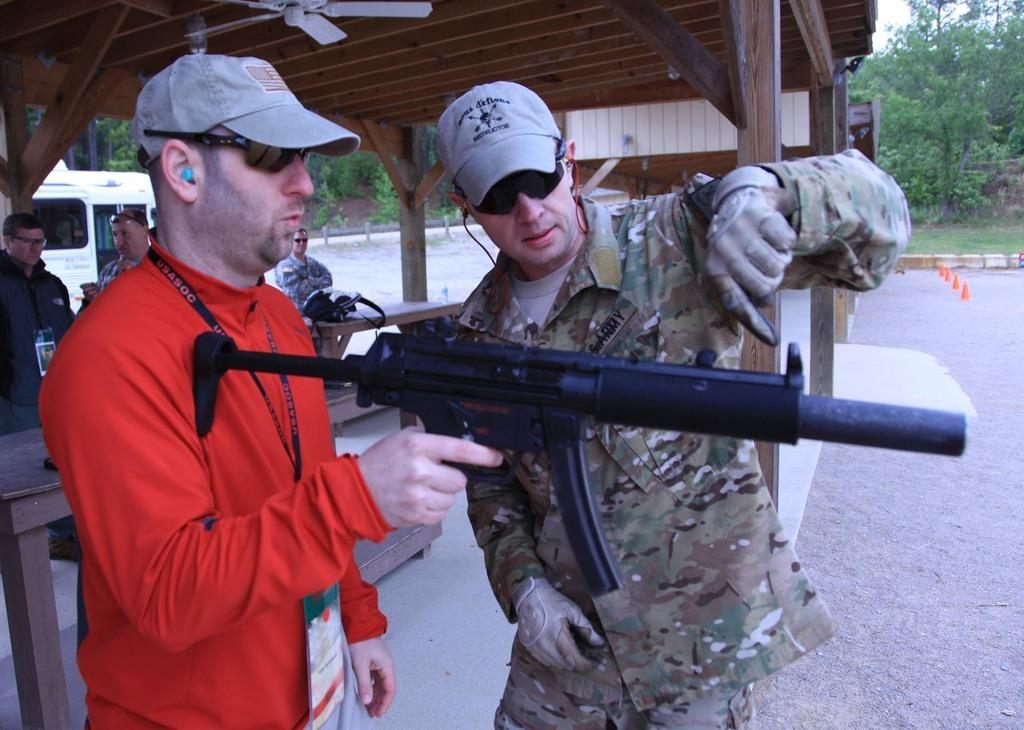Rifle: (173, 247, 925, 637)
